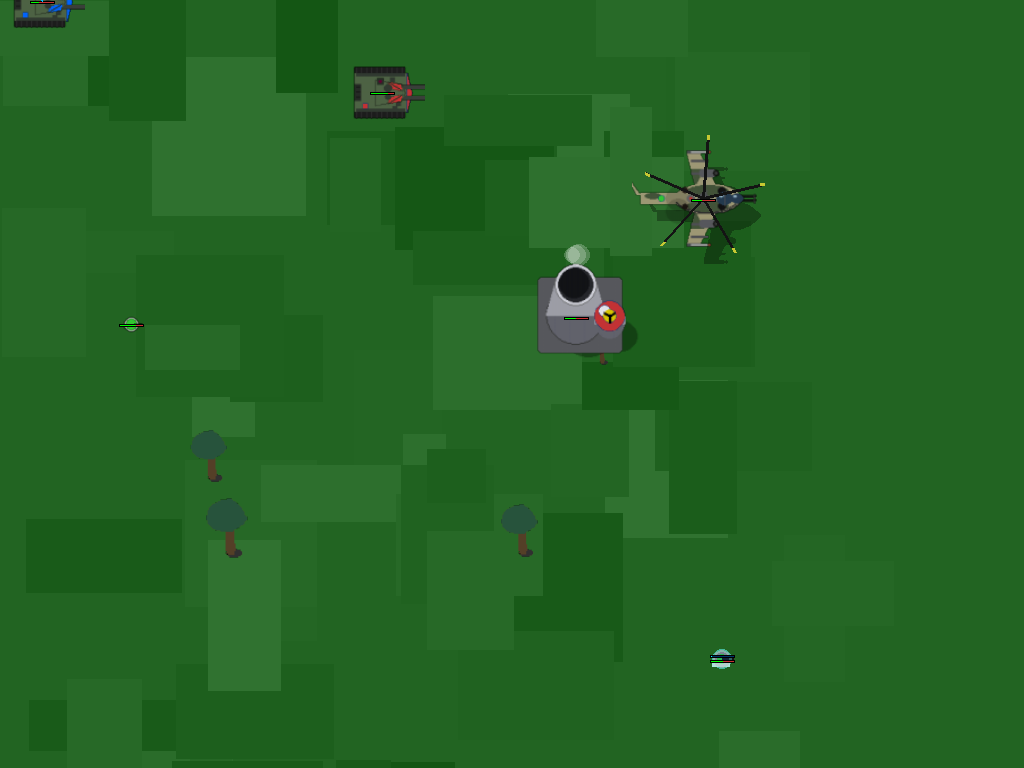APC_usa: (541, 281, 611, 351)
Barracks: (667, 162, 737, 232)
Bunker: (706, 643, 738, 675)
MiningRig: (13, 0, 72, 59), (353, 62, 412, 121)
PowerPlant: (115, 307, 147, 339)
